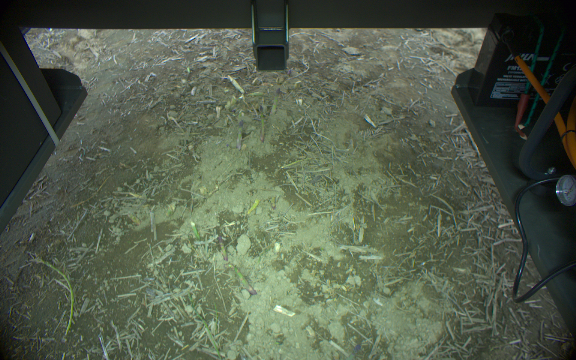aspa: (27, 257, 78, 337), (225, 260, 260, 297), (233, 117, 247, 153), (254, 103, 266, 143), (269, 86, 283, 115), (344, 341, 363, 360), (215, 235, 230, 259), (186, 220, 200, 237)
